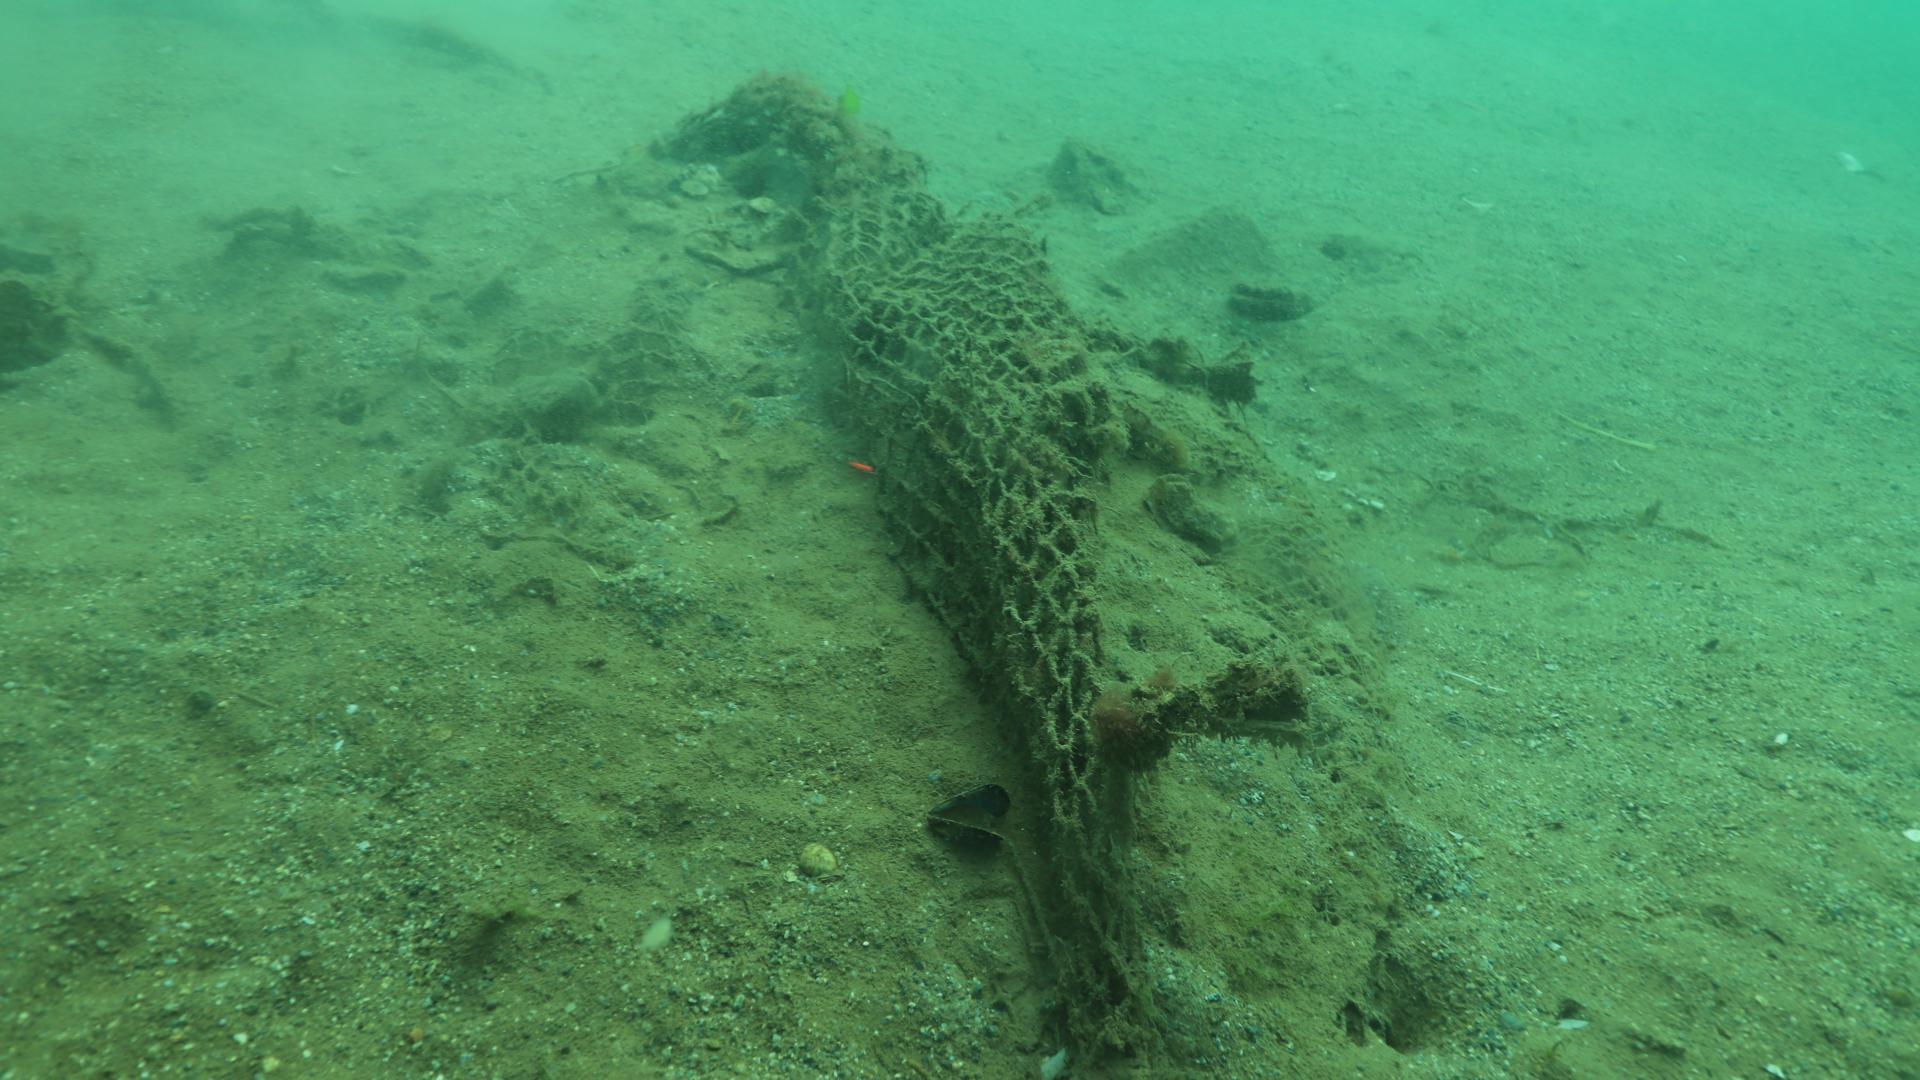fish net: (794, 189, 1367, 942)
